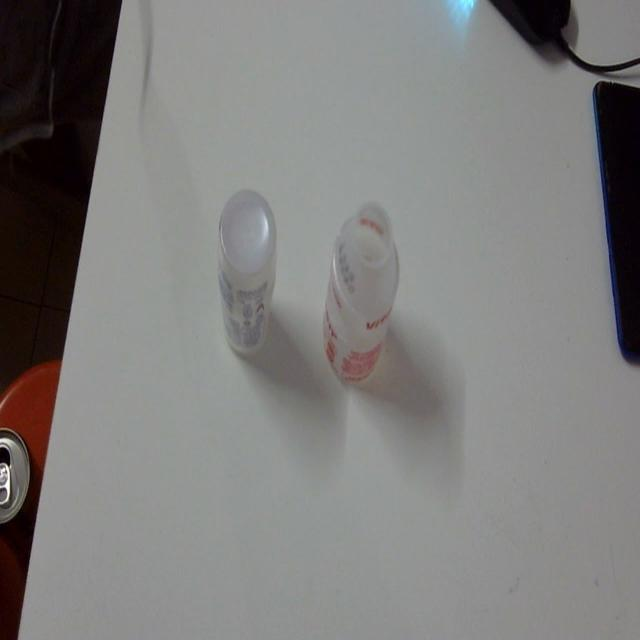plastic_standrotation: (316, 189, 406, 402), (211, 168, 283, 364)
